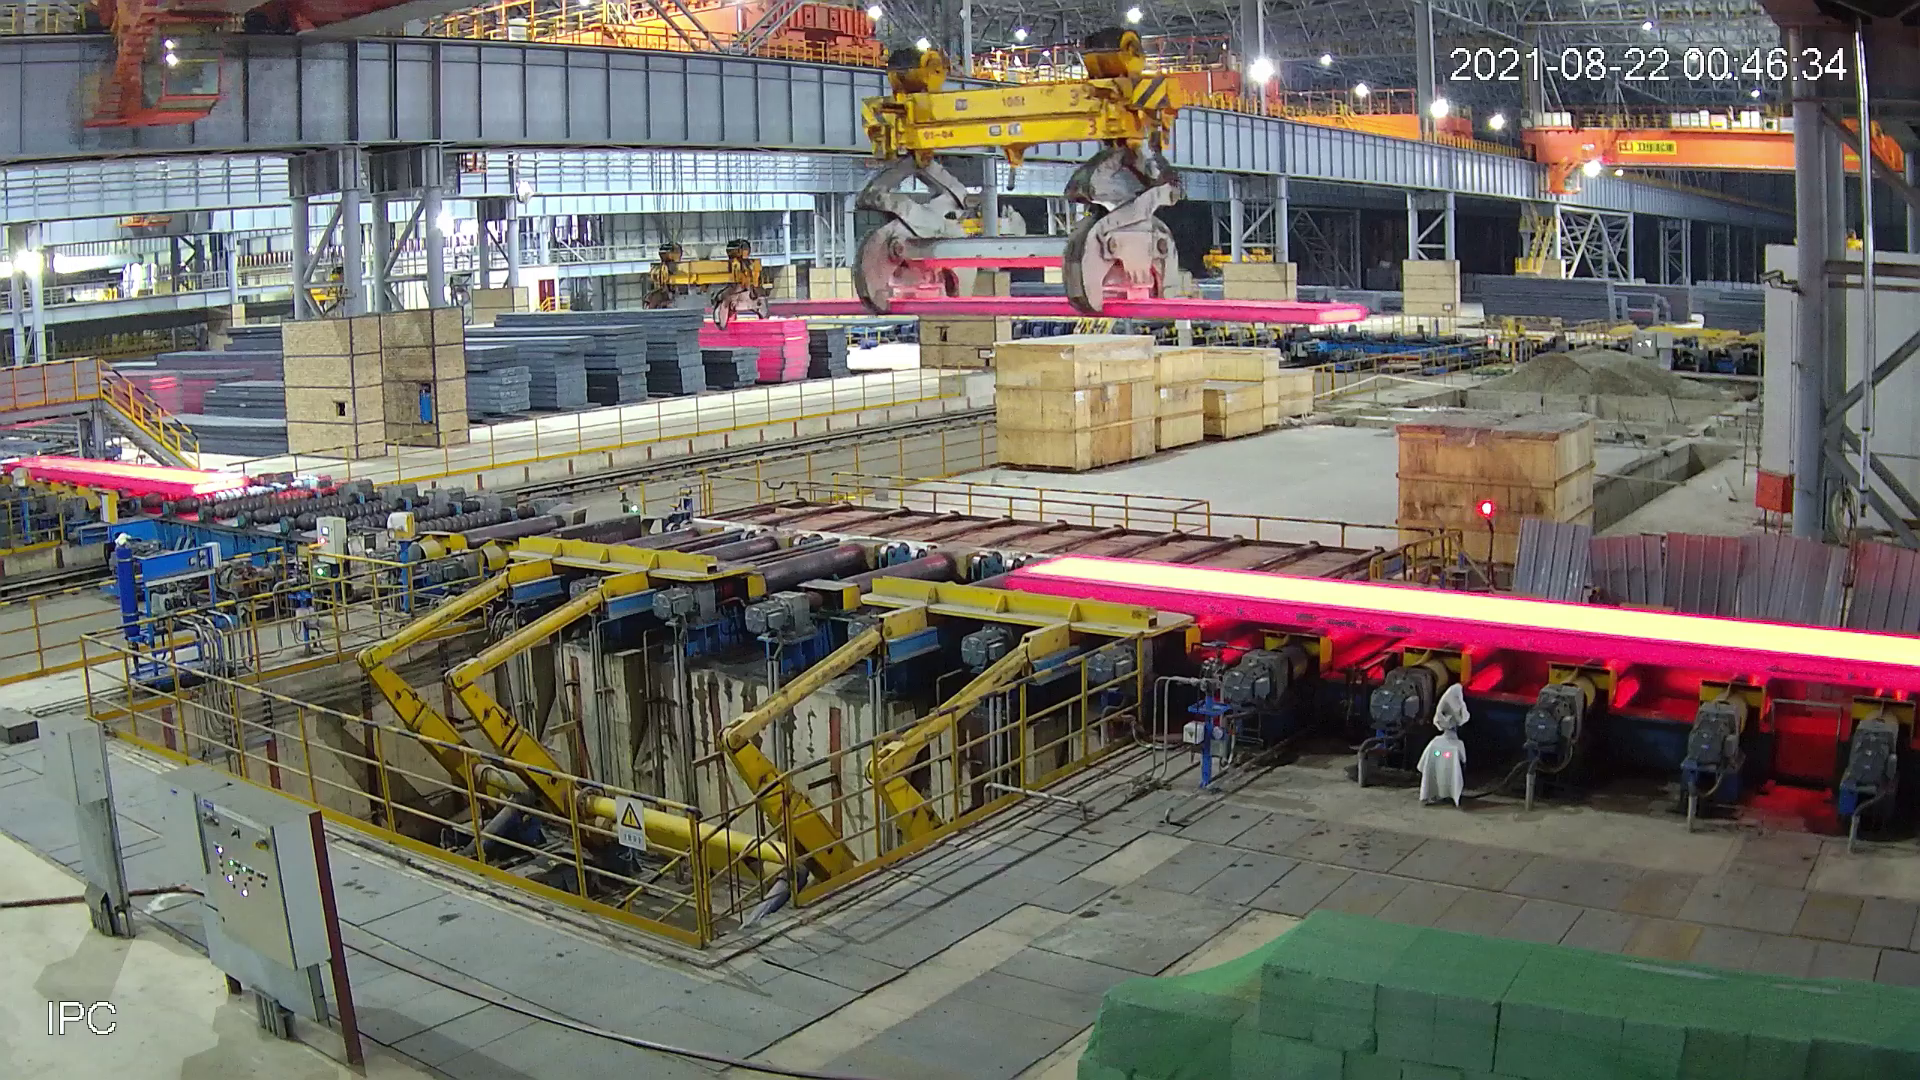craneandslab: (746, 1, 1358, 373)
slab: (1004, 535, 1920, 717), (7, 448, 247, 506)
